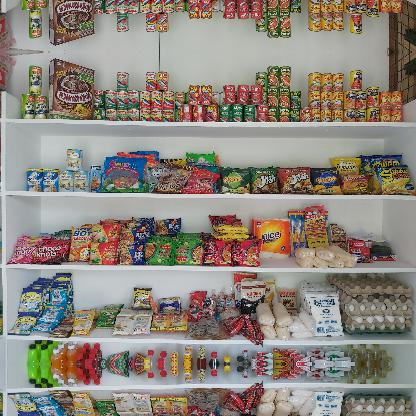Koko-Krunch: (48, 58, 94, 120), (48, 0, 95, 47)
